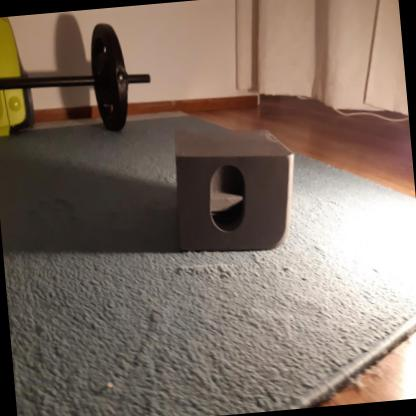CornerCasting: (166, 115, 304, 259)
